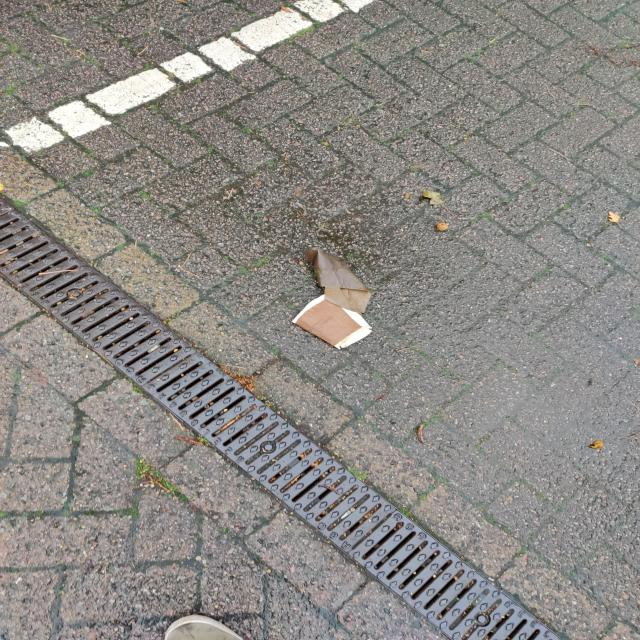litter: (291, 248, 379, 348)
